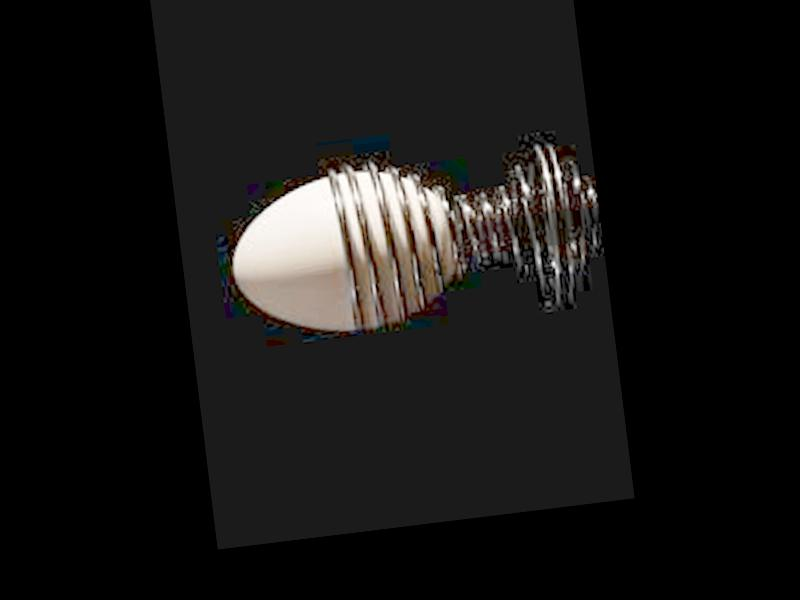Eggs: (222, 160, 462, 343)
